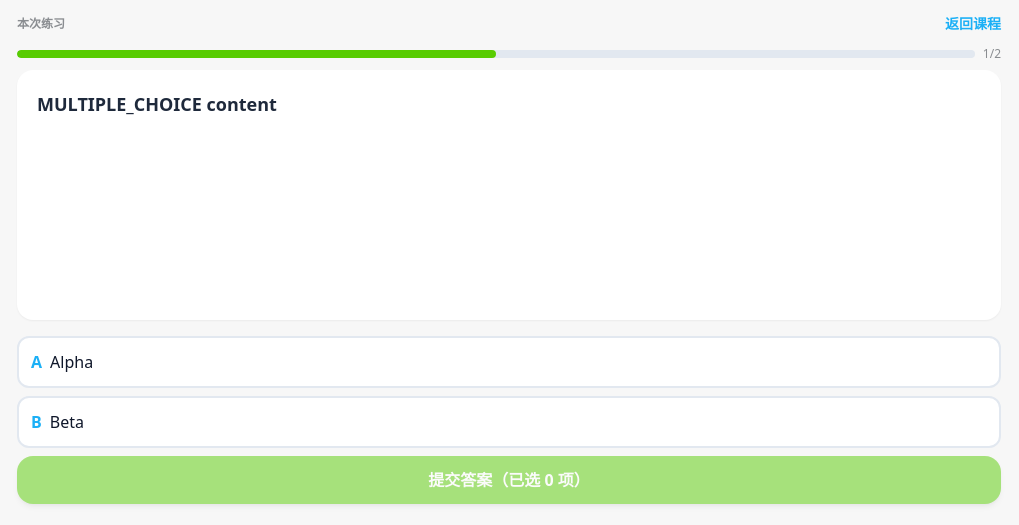
Test: practice production component allows MULTIPLE_CHOICE selections
Click the button "Alpha": (72,362) [17,336,1001,388]
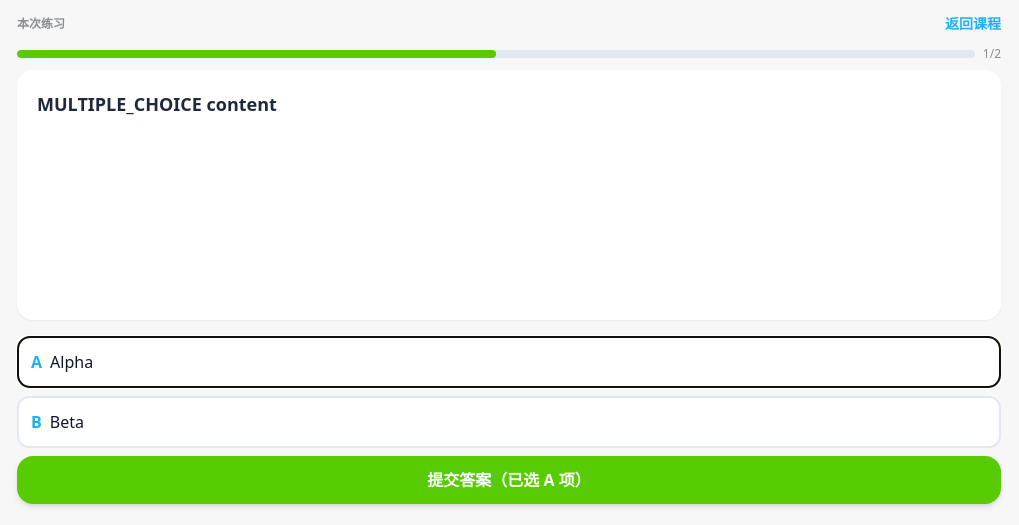
Click the button "Beta": (67,422) [17,396,1001,448]
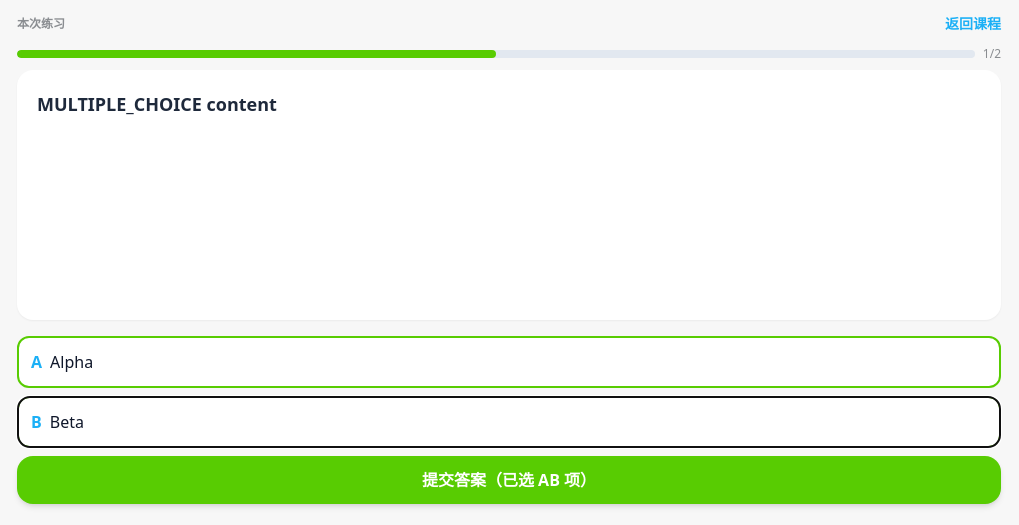
expect the button "提交答案（已选 AB 项）" is shown: met, box [17,456,1001,504]
